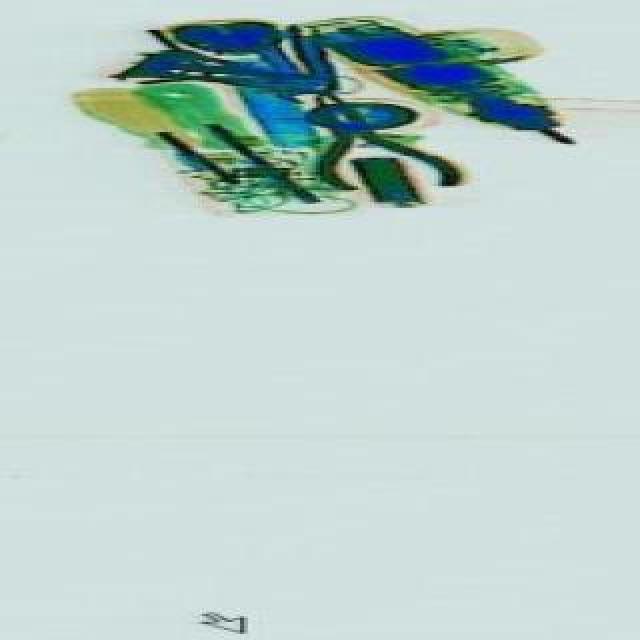scissors: (246, 22, 340, 118)
wrench: (286, 62, 470, 242)
